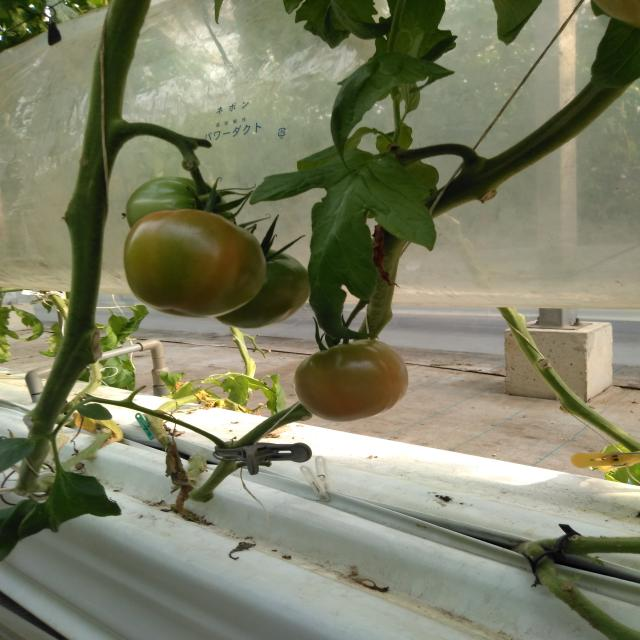yesil: (80, 211, 283, 320)
